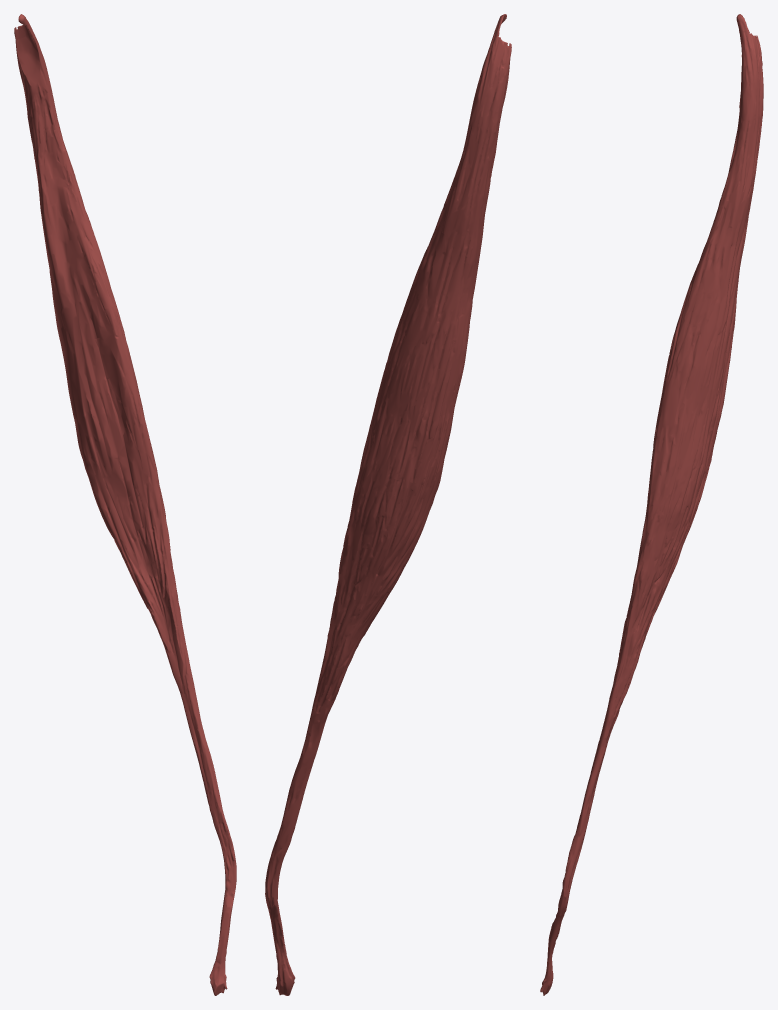
Rendered from FMA38499.glb.
3 renders of one model, left to right at view 1: azimuth 30°, elevation 25°; view 2: azimuth 210°, elevation 25°; view 3: azimuth 270°, elevation 25°, orthographic. The views are drawn at different scales.
Visible parts, largest first — view 1: FMA38499; view 2: FMA38499; view 3: FMA38499.
Boxes of the visible parts, x1,y1,x2,y2 form: FMA38499: [14, 14, 236, 995]; FMA38499: [265, 14, 511, 995]; FMA38499: [540, 14, 763, 995].
Size of the model in its own units: 0.0444 by 0.3026 by 0.0657.
